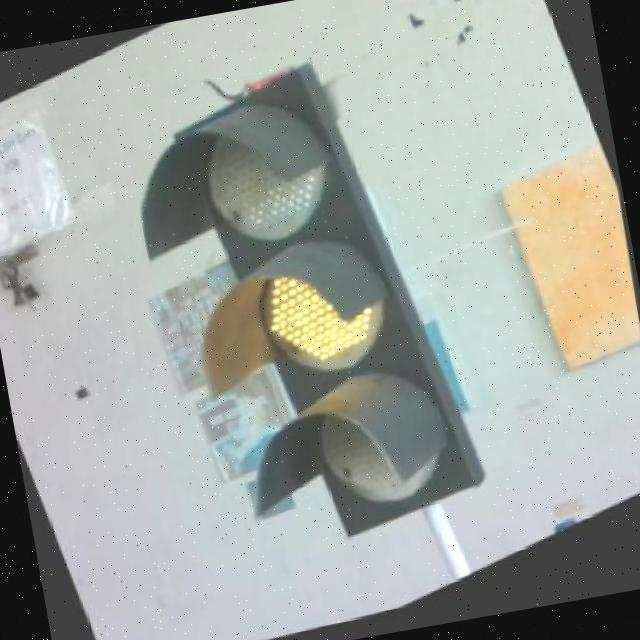yellow_light: (93, 45, 505, 604)
